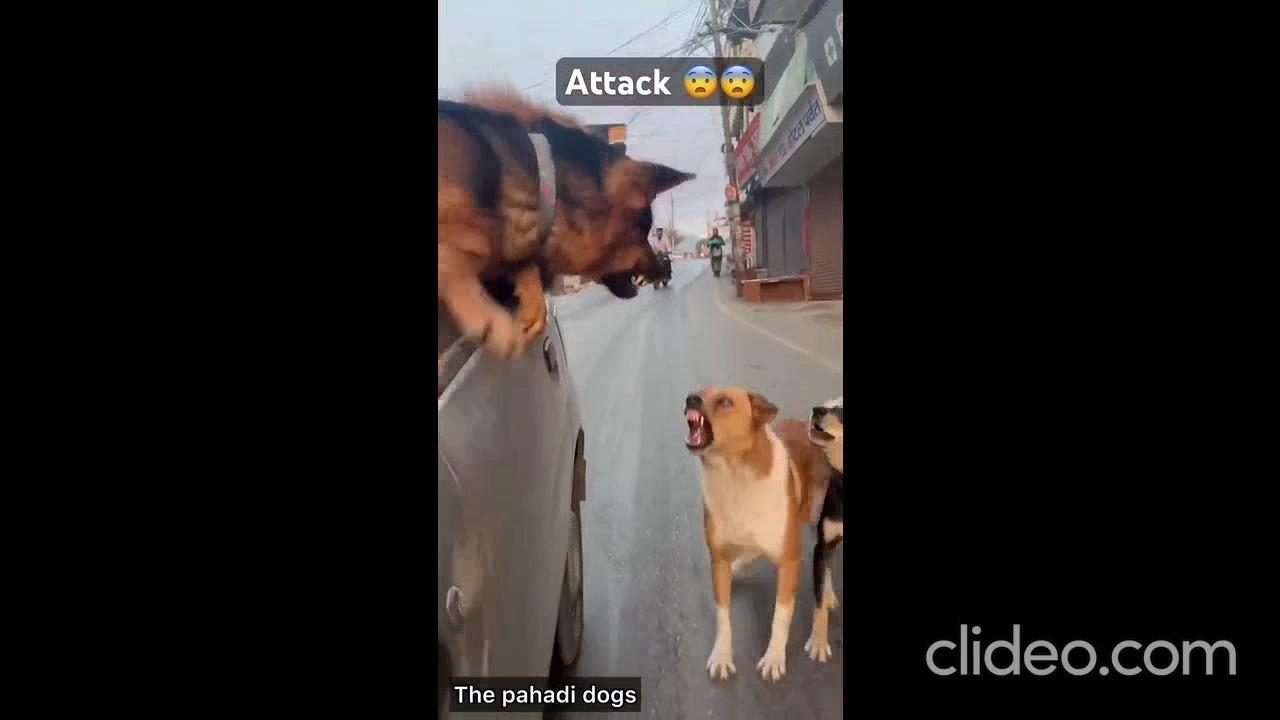dog: (676, 371, 816, 665), (779, 388, 846, 675)
